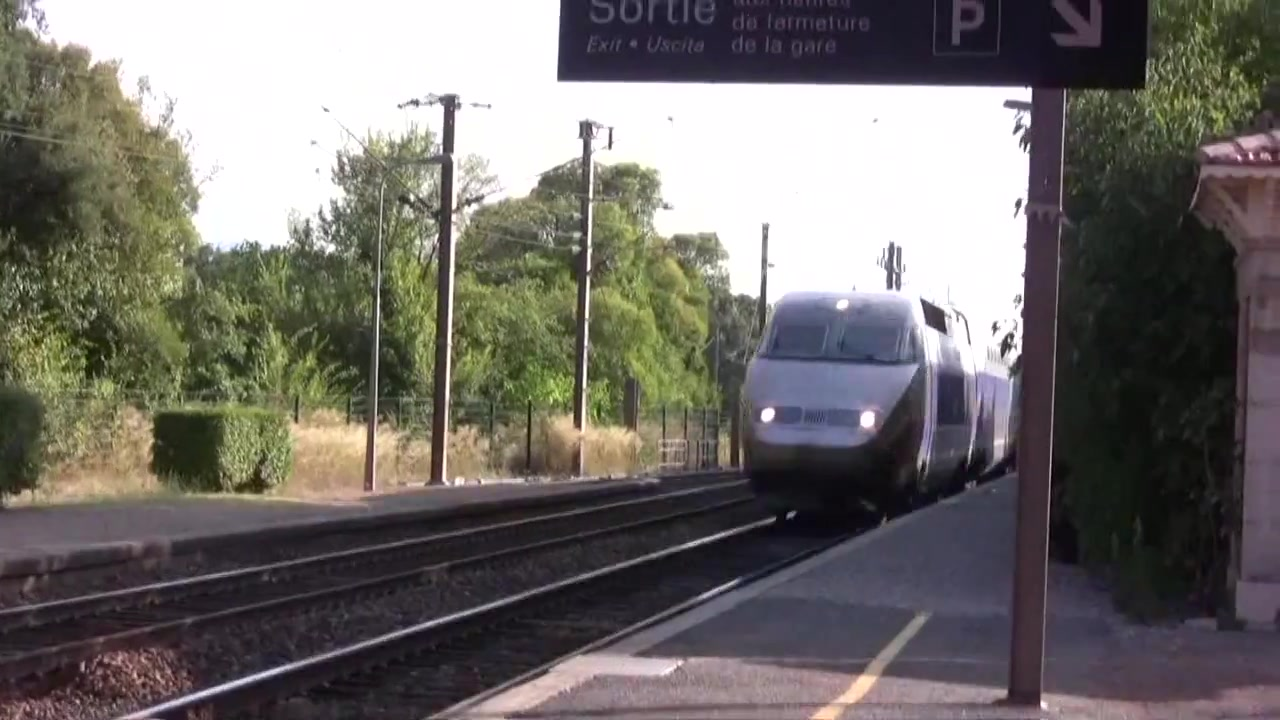train: (742, 288, 1015, 502)
